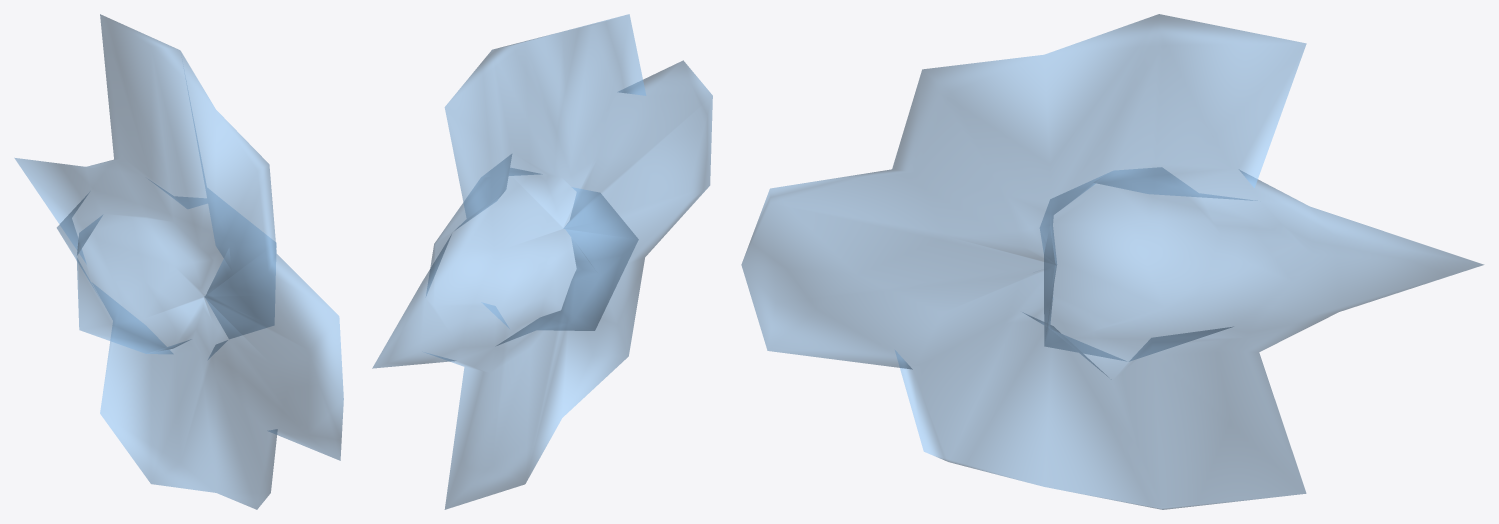
File: sstrireme_shield.gltf
3 views of the same model, side by side, from view 1: azimuth 30°, elevation 25°; view 2: azimuth 150°, elevation 25°; view 3: azimuth 270°, elevation 25° (orthographic). The views are drawn at different scales.
Visible parts, largest first — view 1: sstrireme.shield; view 2: sstrireme.shield; view 3: sstrireme.shield.
Boxes of the visible parts, box(x1,y1,x2,y2) form: sstrireme.shield: box(14, 14, 343, 509); sstrireme.shield: box(372, 14, 712, 509); sstrireme.shield: box(741, 14, 1483, 509).
Bounding box in the file's own units: 8.6 × 23.01 × 31.42.
